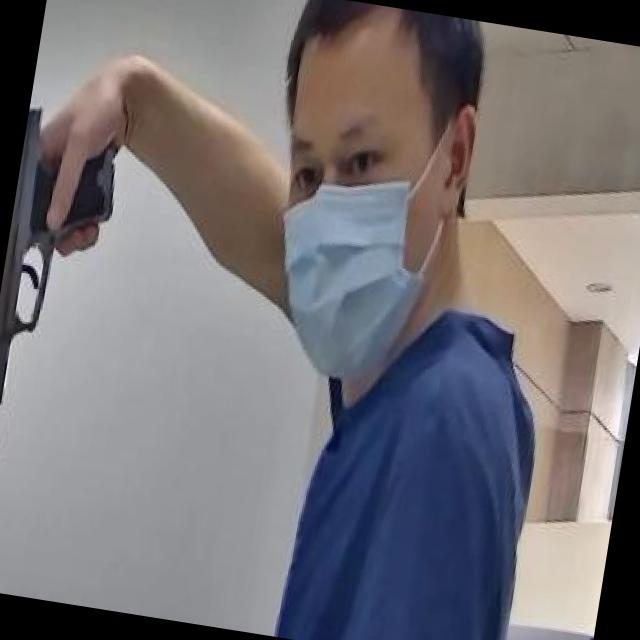Guns: (0, 64, 167, 521)
